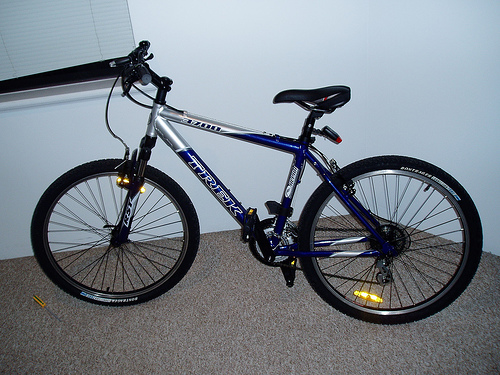bicycle: (25, 28, 493, 326)
